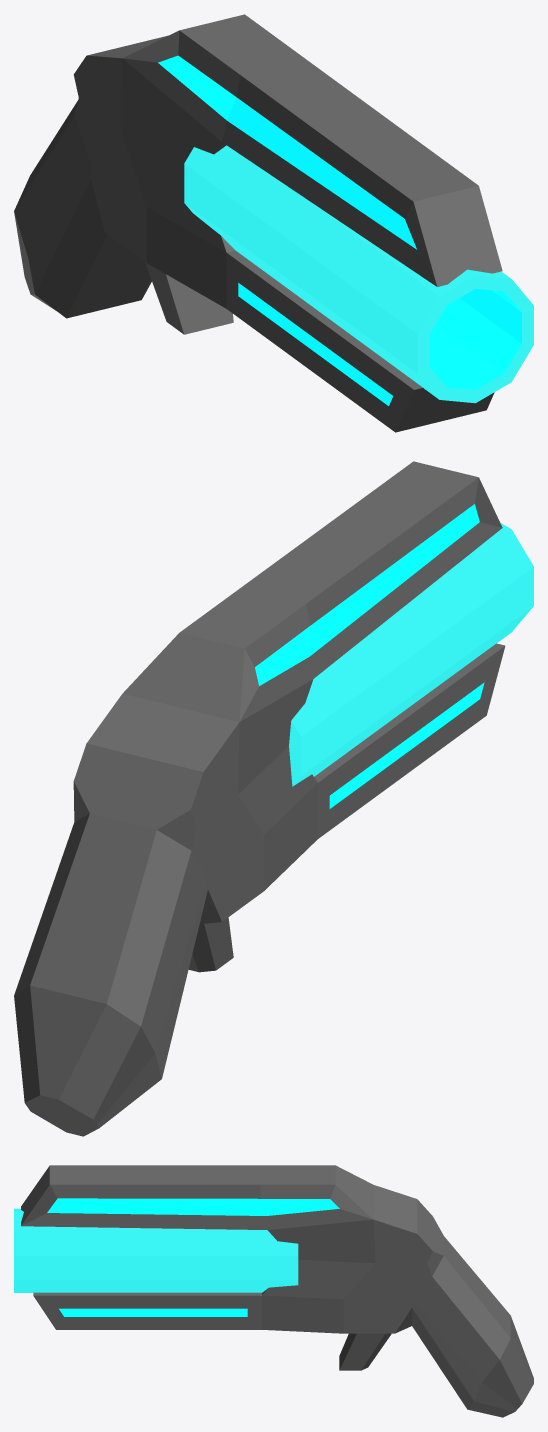
Rendered from LaserGunNew.glb.
3 views of the same model, one above another, from view 1: azimuth 30°, elevation 25°; view 2: azimuth 150°, elevation 25°; view 3: azimuth 270°, elevation 25° (orthographic). The views are drawn at different scales.
Visible parts, largest first — view 1: LaserGun; view 2: LaserGun; view 3: LaserGun.
Part boxes in pixels (box(x1,y1,x2,y2)): LaserGun: box(14, 14, 533, 432); LaserGun: box(14, 461, 533, 1136); LaserGun: box(14, 1165, 533, 1417).
Size of the model in its own units: 0.2061 by 0.6102 by 1.2.
